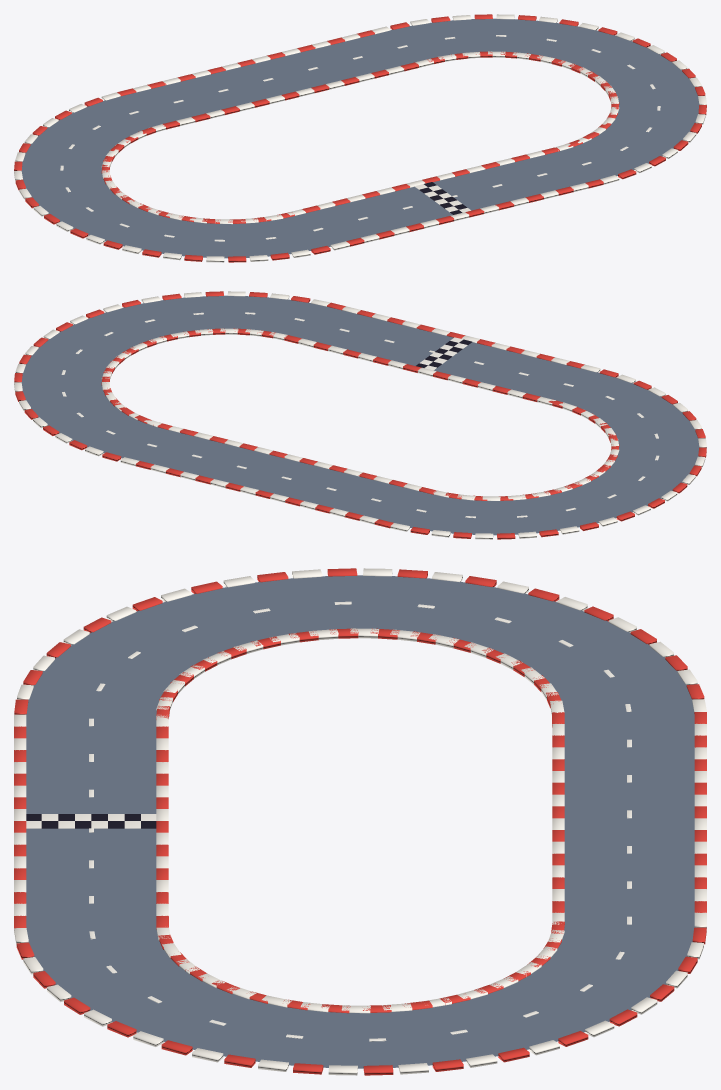
File: toy_racetrack.glb
The picture shows the model from 3 angles, top to bottom: view 1: azimuth 30°, elevation 25°; view 2: azimuth 150°, elevation 25°; view 3: azimuth 270°, elevation 25°; orthographic projection. The views are drawn at different scales.
Visible parts, largest first — view 1: toy_racetrack; view 2: toy_racetrack; view 3: toy_racetrack.
Boxes of the visible parts, x1,y1,x2,y2 form: toy_racetrack: (14, 14, 706, 262); toy_racetrack: (14, 291, 706, 539); toy_racetrack: (14, 568, 706, 1075).
Bounding box in the file's own units: 28.74 × 0.12 × 16.74.
